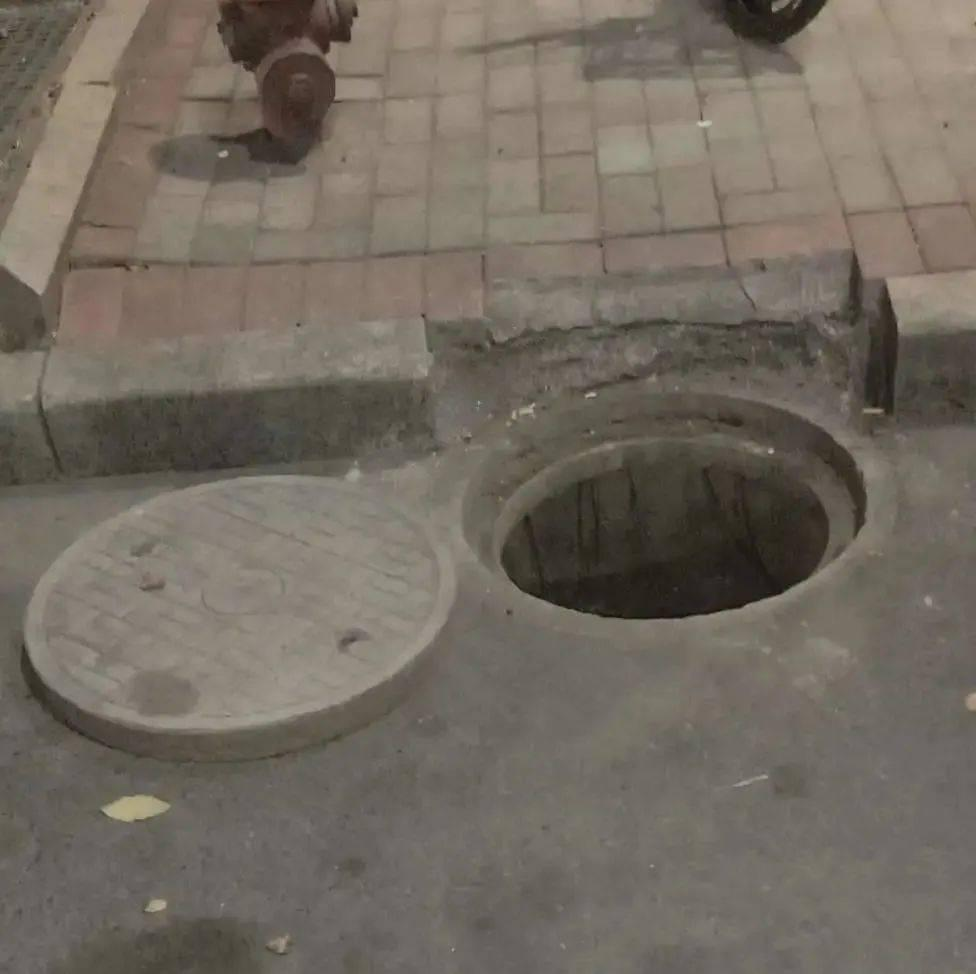wellcover: (21, 357, 896, 756)
